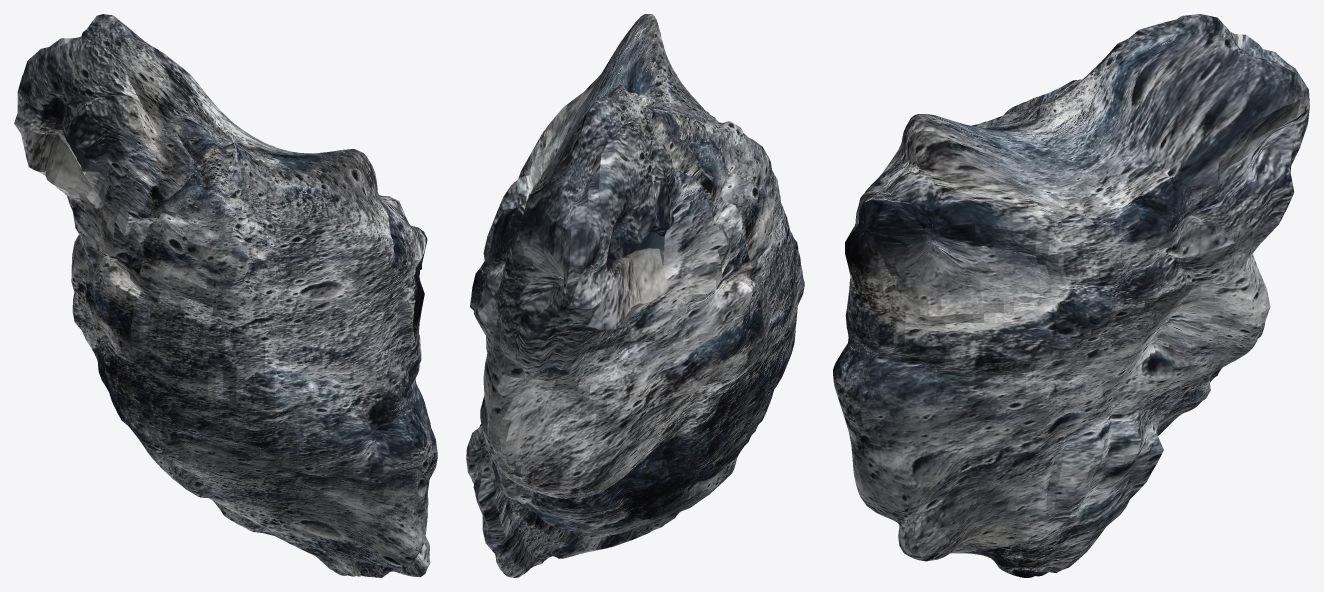
The model's file is Asteroide2007FT3.gltf.
3 views of the same model, side by side, from view 1: azimuth 30°, elevation 25°; view 2: azimuth 150°, elevation 25°; view 3: azimuth 270°, elevation 25° (orthographic). The views are drawn at different scales.
Visible parts, largest first — view 1: Sphere; view 2: Sphere; view 3: Sphere.
Boxes of the visible parts, x1,y1,x2,y2 form: Sphere: [14, 14, 437, 577]; Sphere: [466, 14, 804, 577]; Sphere: [833, 14, 1309, 577].
Size of the model in its own units: 1.57 by 3.21 by 2.82.
1 material, 1 textured.
